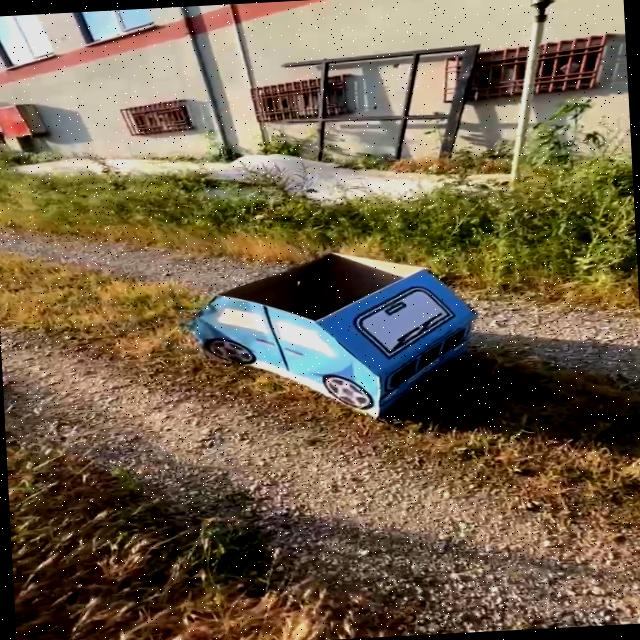blue_car: (139, 230, 574, 449)
